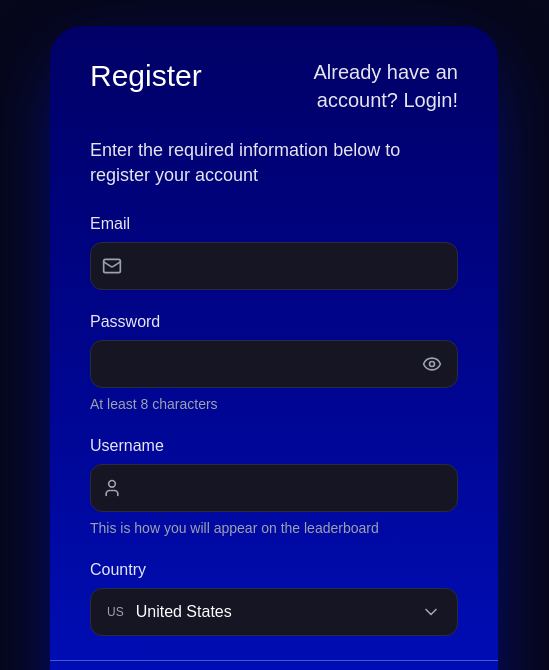
authentication › preselects the country from the browser locale and allows keyboard selection
The image size is (549, 670).
Click the button named "Country": (184, 611) [90,588,458,636]
(page scrolled)
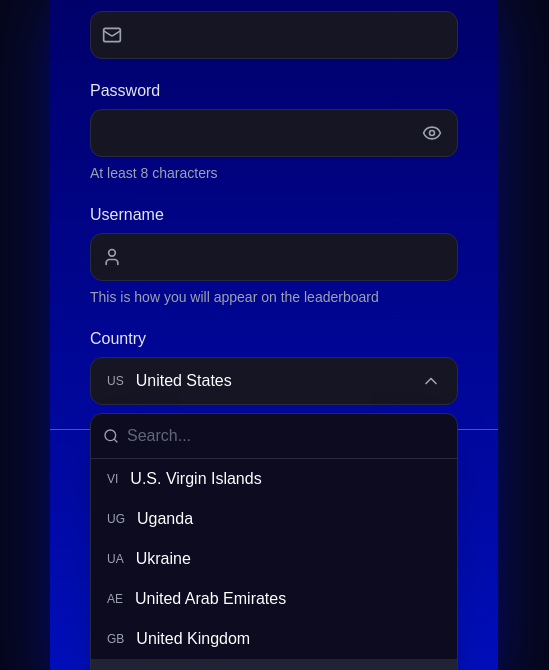
In the dropdown named "Search country": (286, 436) [127,414,445,458], type "fin"
Then press Enter
(page scrolled)
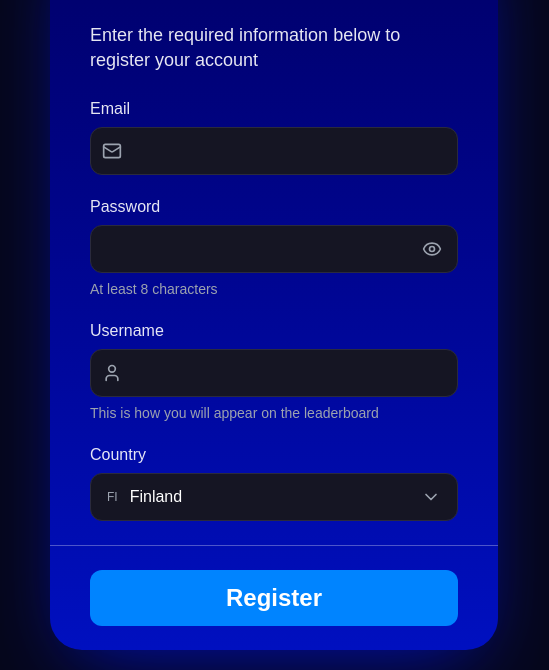
Expected: the button named "Country" shows "Finland", [90,472,458,520]
